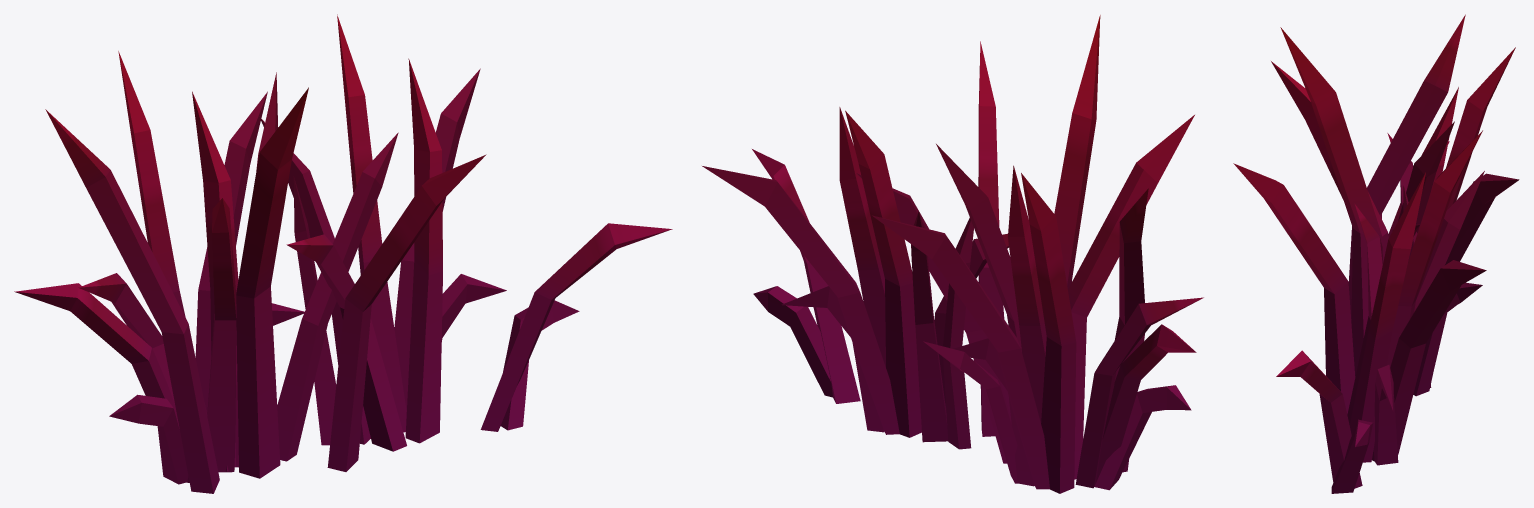
The model's file is SM_Env_Plant_Grass_01.glb.
3 views of the same model, side by side, from view 1: azimuth 30°, elevation 25°; view 2: azimuth 150°, elevation 25°; view 3: azimuth 270°, elevation 25° (orthographic). The views are drawn at different scales.
Parts seen in each view (by area): view 1: SM_Env_Plant_Grass_01; view 2: SM_Env_Plant_Grass_01; view 3: SM_Env_Plant_Grass_01.
Boxes of the visible parts, box(x1,y1,x2,y2) form: SM_Env_Plant_Grass_01: box(14, 14, 672, 493); SM_Env_Plant_Grass_01: box(702, 15, 1203, 493); SM_Env_Plant_Grass_01: box(1233, 14, 1519, 493).
Bounding box in the file's own units: 96.2 × 69.64 × 49.39.
Materials: 1 (1 with a texture image).
